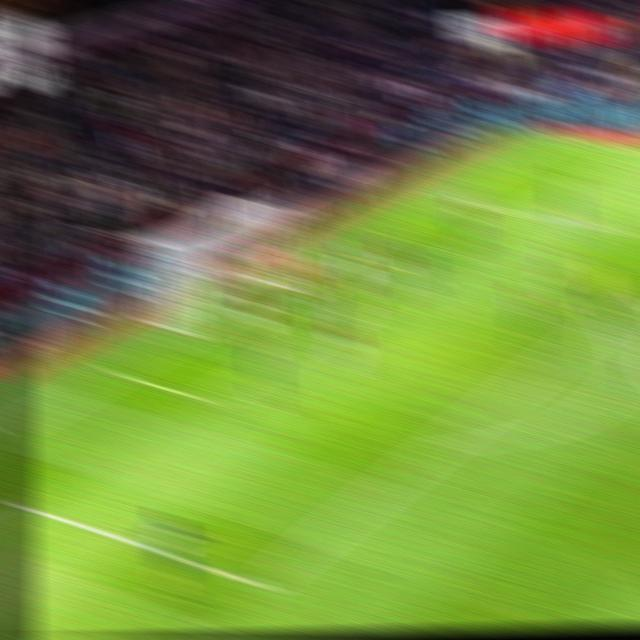bigarea_bottom_inner: (238, 563, 282, 606)
bigarea_top_outter: (428, 186, 459, 208)
bottom_arc_area_intersection: (424, 427, 463, 462)
corner: (536, 129, 571, 148)
smallarea_bottom_inner: (188, 380, 227, 417)
smallarea_bottom_outter: (99, 357, 135, 386)
smallarea_top_inner: (405, 260, 437, 285)
smallarea_top_outter: (324, 241, 356, 265)
top_arc_area_intersection: (586, 311, 620, 339)
